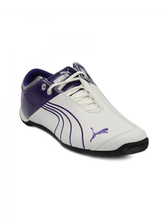shoes: (13, 62, 152, 157)
